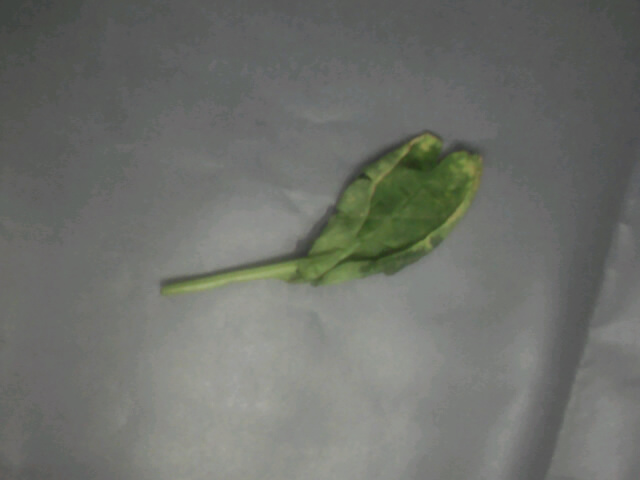yellow: (240, 121, 489, 313)
